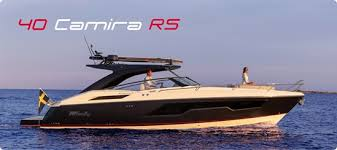boat: (20, 53, 304, 132)
